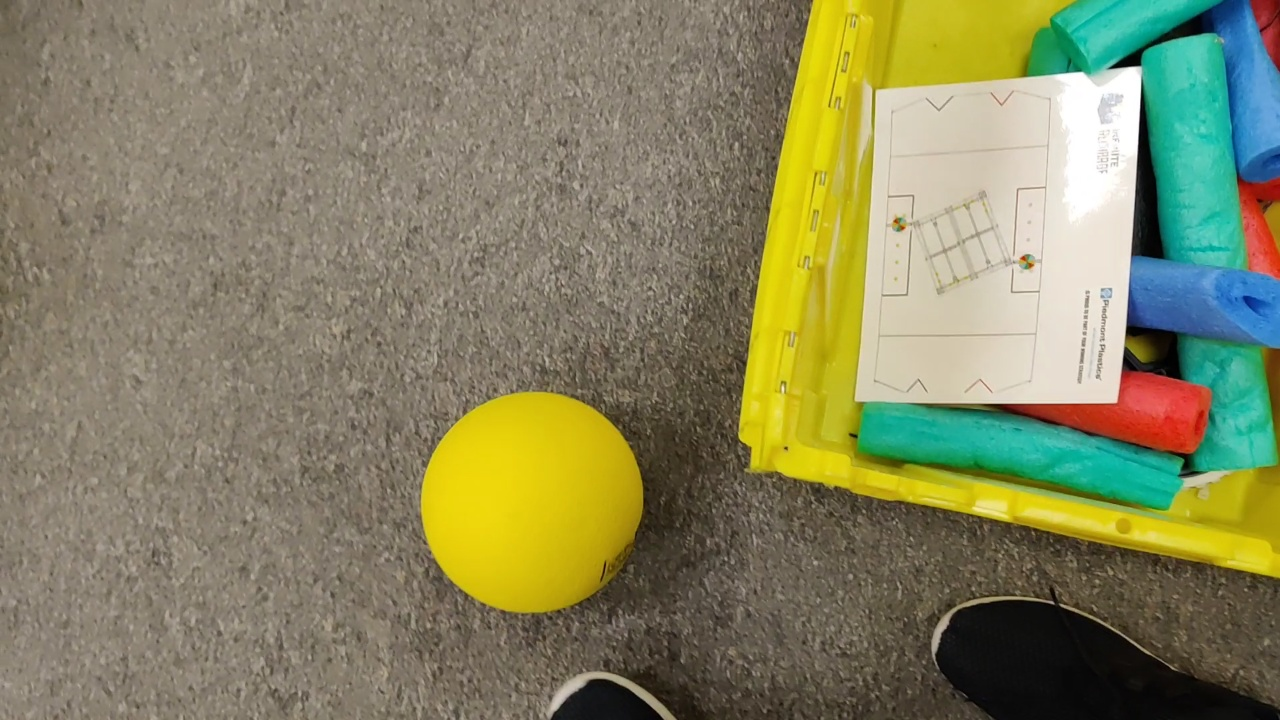Ball: (423, 395, 669, 613)
